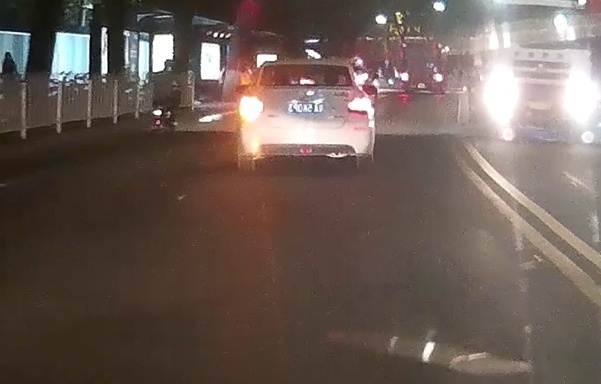L_light: (240, 98, 267, 116)
R_light: (345, 98, 368, 114)
T_light: (299, 78, 314, 85)
night-left: (238, 60, 374, 173)
